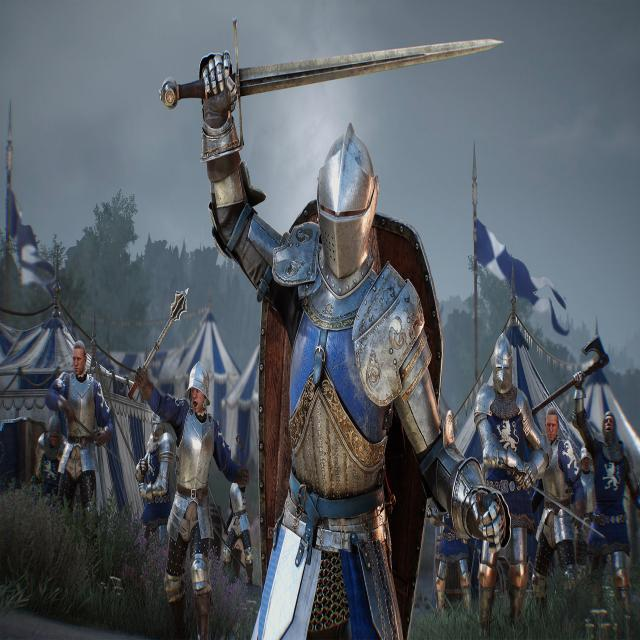axe: (532, 333, 612, 415)
mace: (132, 286, 190, 390)
sword: (161, 16, 505, 144), (498, 461, 609, 541), (69, 411, 132, 477), (208, 486, 229, 536)
